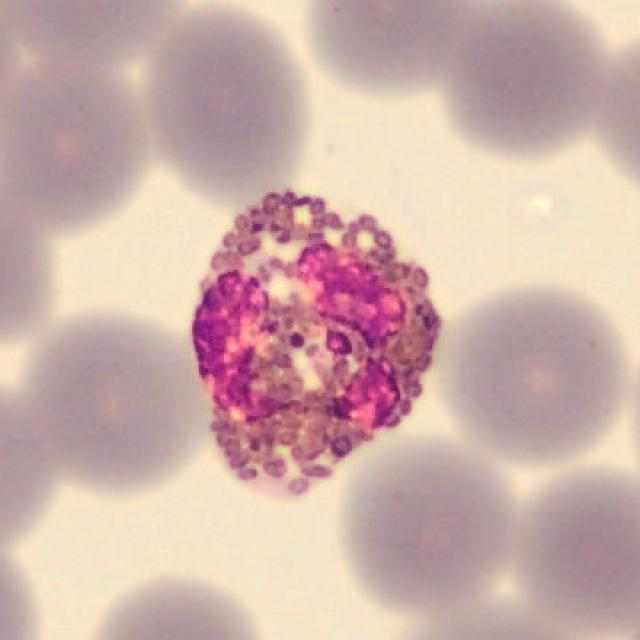Eosinofilo: (190, 190, 443, 498)
